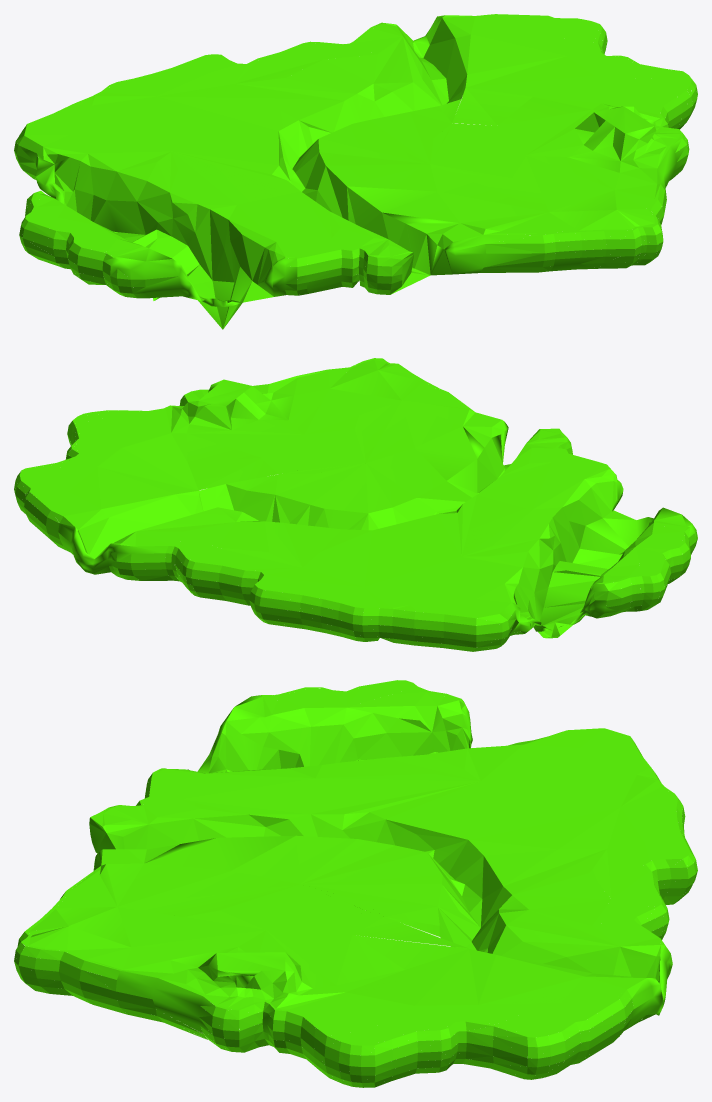
The model's file is Map22.glb.
The picture shows the model from 3 angles, top to bottom: view 1: azimuth 30°, elevation 25°; view 2: azimuth 150°, elevation 25°; view 3: azimuth 270°, elevation 25°; orthographic projection. The views are drawn at different scales.
Visible parts, largest first — view 1: PipoIsland; view 2: PipoIsland; view 3: PipoIsland.
Part boxes in pixels (box(x1,y1,x2,y2)): PipoIsland: box(14, 14, 697, 329); PipoIsland: box(14, 358, 697, 651); PipoIsland: box(14, 680, 697, 1087).
Bounding box in the file's own units: 527 × 69.74 × 410.
